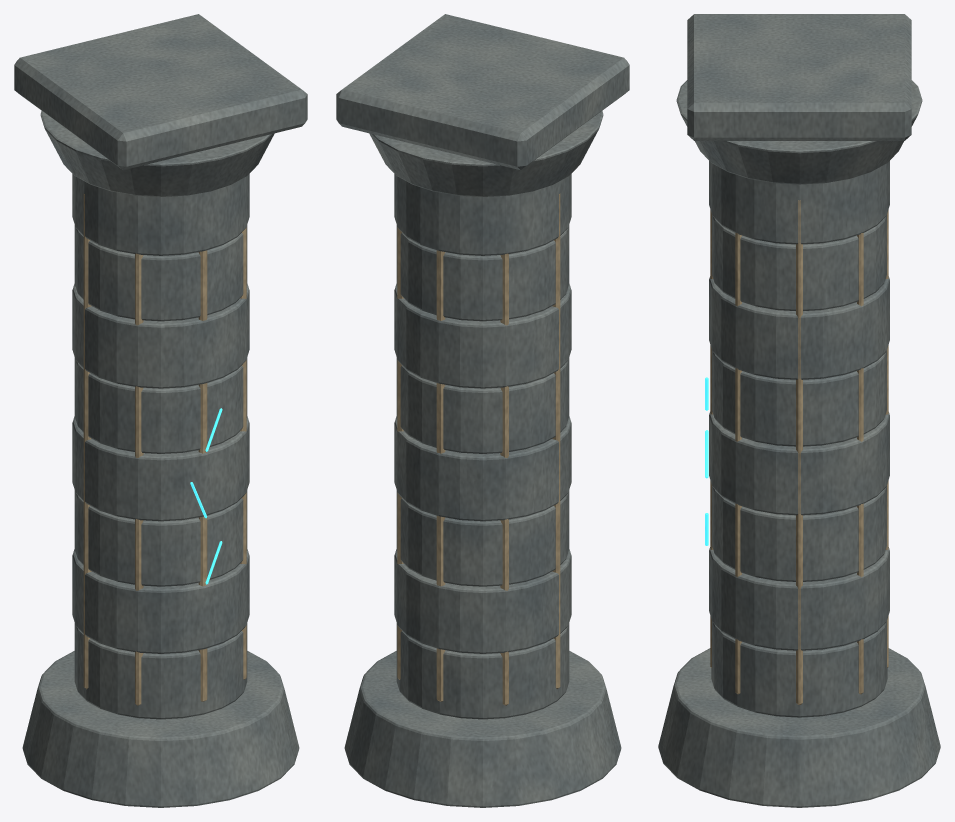
Rendered from dungeon_pillar.glb.
3 renders of one model, left to right at view 1: azimuth 30°, elevation 25°; view 2: azimuth 150°, elevation 25°; view 3: azimuth 270°, elevation 25°, orthographic. The views are drawn at different scales.
Parts seen in each view (by area): view 1: DungeonPillar_Mesh; view 2: DungeonPillar_Mesh; view 3: DungeonPillar_Mesh.
Part boxes in pixels (left/top/right/bottom): DungeonPillar_Mesh: left=14, top=14, right=307, bottom=807; DungeonPillar_Mesh: left=336, top=14, right=629, bottom=807; DungeonPillar_Mesh: left=658, top=14, right=940, bottom=807.
Bounding box in the file's own units: 1.89 × 5.1 × 1.89.
1 material, 1 textured.
